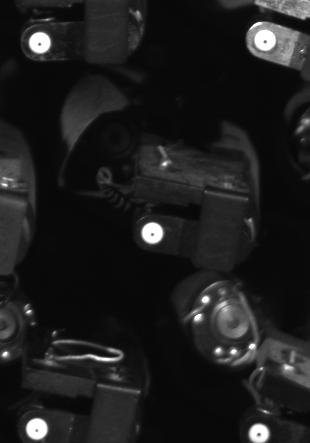fiber: (138, 218, 169, 248), (25, 28, 55, 57), (250, 27, 281, 55), (22, 415, 53, 442), (244, 420, 277, 443)
